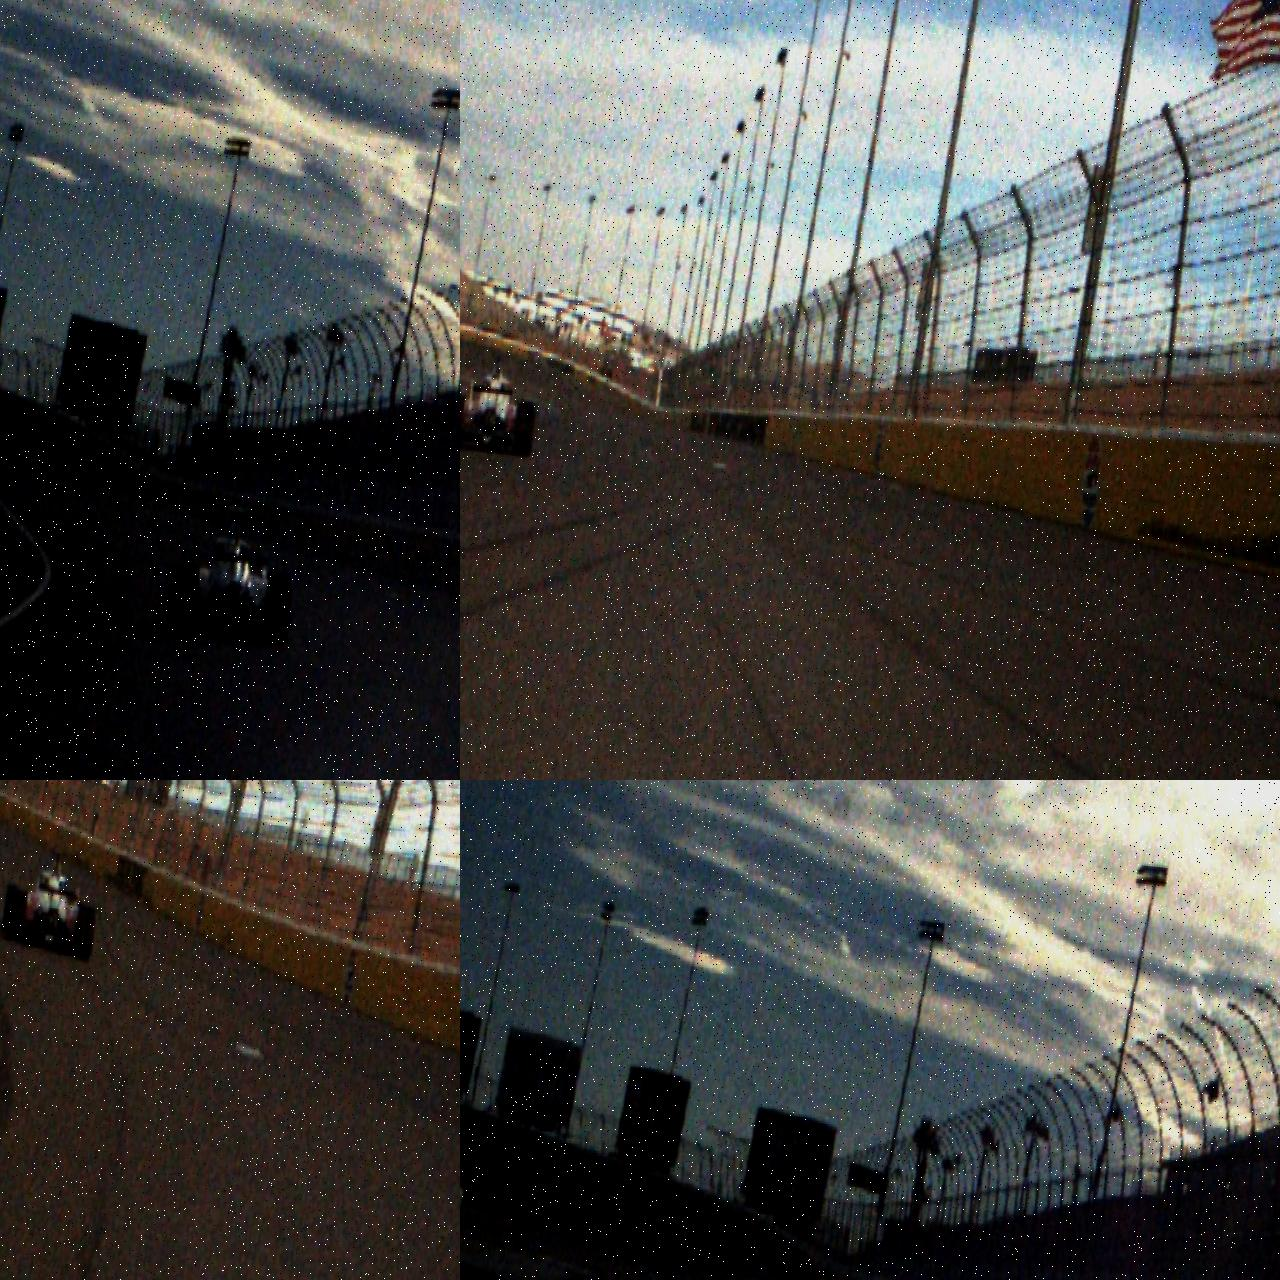AV: (159, 498, 302, 647), (0, 844, 103, 961), (459, 345, 543, 458)
Wheel: (264, 571, 295, 648), (169, 564, 200, 638), (512, 400, 538, 457), (4, 888, 28, 942), (74, 904, 96, 961), (459, 392, 467, 450)
